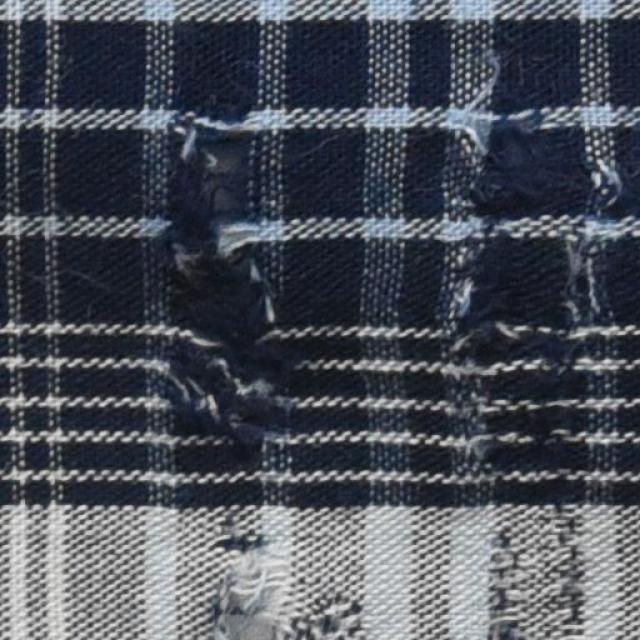Snag: (450, 24, 620, 448), (152, 90, 293, 457), (202, 522, 374, 639), (471, 524, 540, 639)
